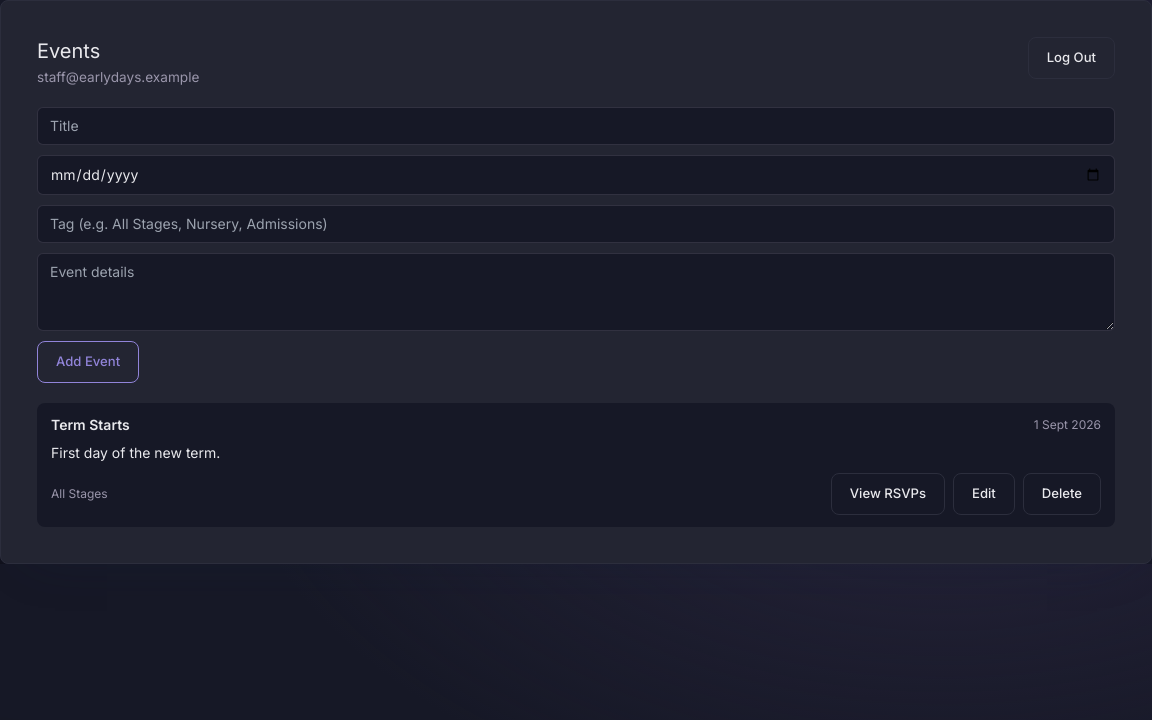
AdminEventsPanel › RSVPs › filters RSVPs by search query
Check: the text "Term Starts" is shown, box left=51, top=415, right=130, bottom=435
Click the button "View RSVPs". click: (888, 494)
box: left=831, top=473, right=945, bottom=515
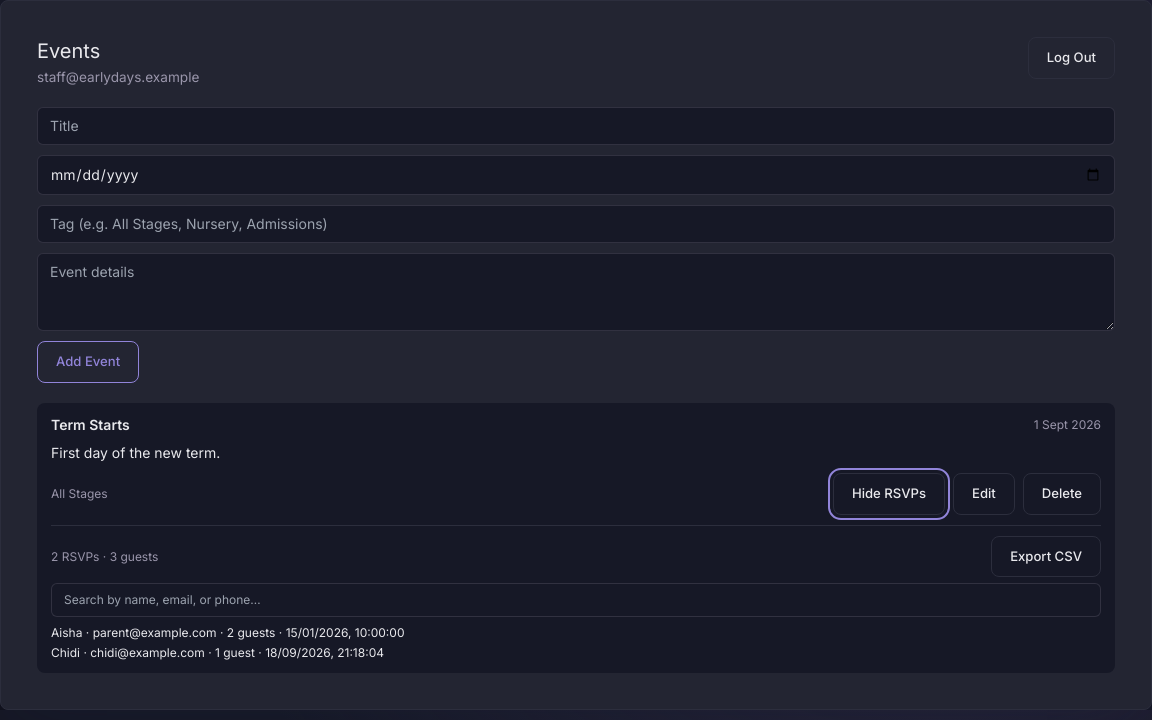
Check: the list item "Chidi · chidi@example.com · 1 guest · 18/09/2026, 21:18:04" is shown, box left=51, top=646, right=384, bottom=660
Type "Aisha" into the field named "Search RSVPs". click: (576, 600)
box: left=51, top=584, right=1101, bottom=618
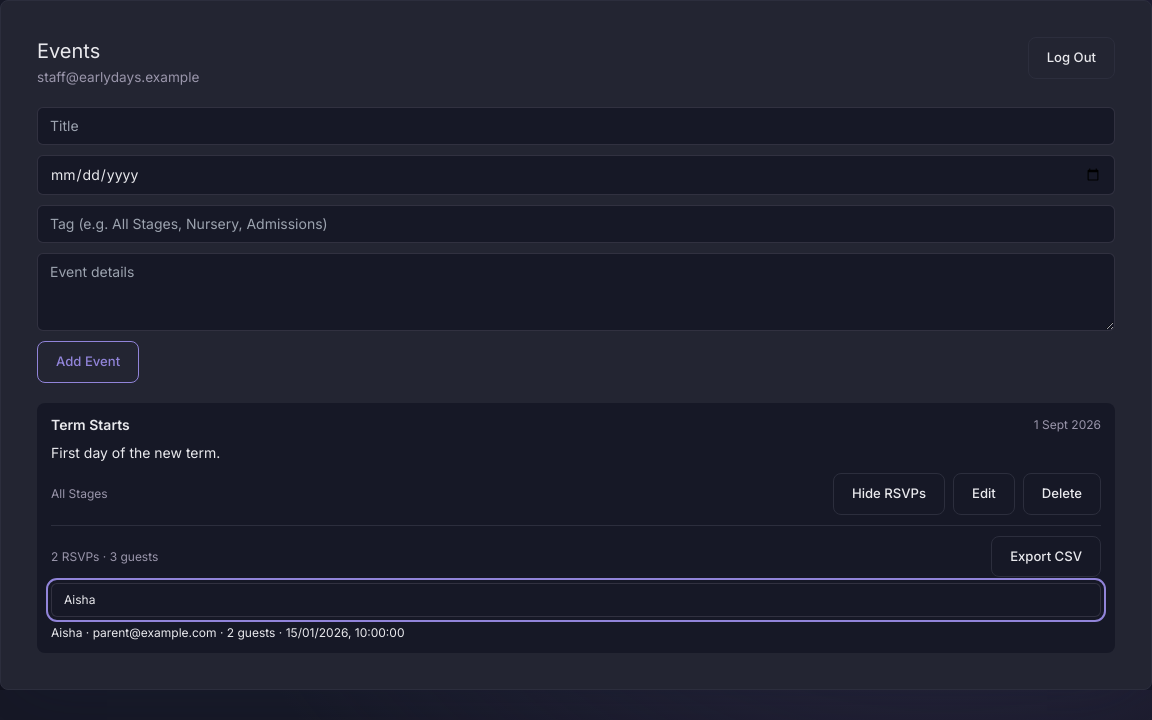
Check: the list item "Aisha · parent@example.com · 2 guests · 15/01/2026, 10:00:00" is shown, box left=51, top=626, right=404, bottom=640
Check: the list item "Chidi · chidi@example.com" is gone
